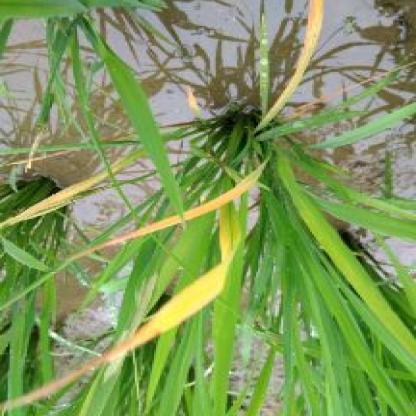Tungro: (266, 1, 325, 121)
